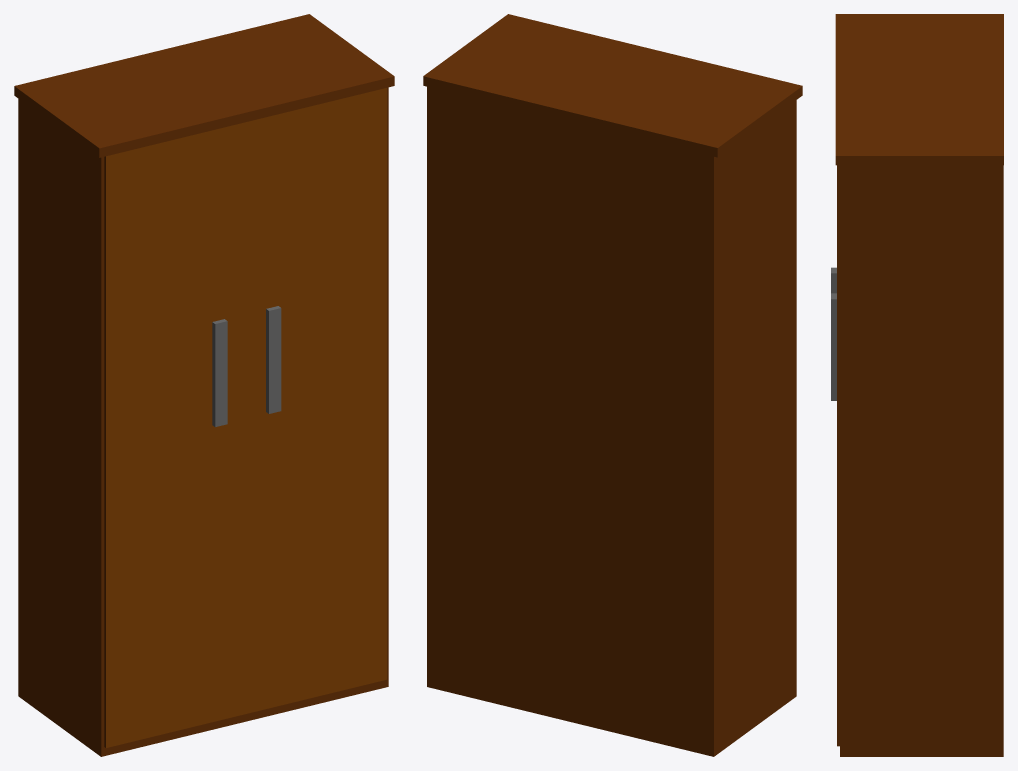
File: cabinet-hospital.fbx
3 views of the same model, side by side, from view 1: azimuth 30°, elevation 25°; view 2: azimuth 150°, elevation 25°; view 3: azimuth 270°, elevation 25° (orthographic).
Parts seen in each view (by area): view 1: cabinet-hospital; view 2: cabinet-hospital; view 3: cabinet-hospital.
Boxes of the visible parts, x1,y1,x2,y2 form: cabinet-hospital: (14,14,394,756); cabinet-hospital: (423,14,802,756); cabinet-hospital: (831,14,1003,756).
Size of the model in its own units: 205 by 406 by 105.
